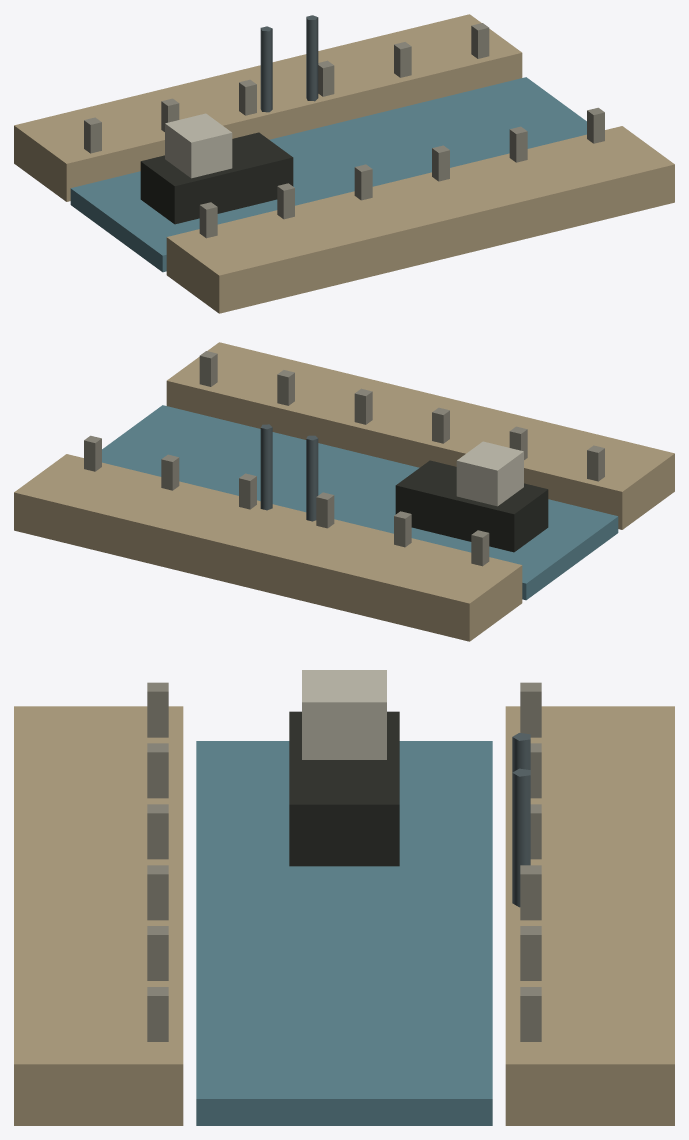
Rendered from custom-wonder-suveys.glb.
3 renders of one model, top to bottom at view 1: azimuth 30°, elevation 25°; view 2: azimuth 150°, elevation 25°; view 3: azimuth 270°, elevation 25°, orthographic. The views are drawn at different scales.
Visible parts, largest first — view 1: custom-wonder-suveys; view 2: custom-wonder-suveys; view 3: custom-wonder-suveys.
Boxes of the visible parts, x1=… form: custom-wonder-suveys: x1=14, y1=14, x2=674, y2=313; custom-wonder-suveys: x1=14, y1=342, x2=674, y2=641; custom-wonder-suveys: x1=14, y1=670, x2=674, y2=1125.
Bounding box in the file's own units: 1 × 0.25 × 0.78.
